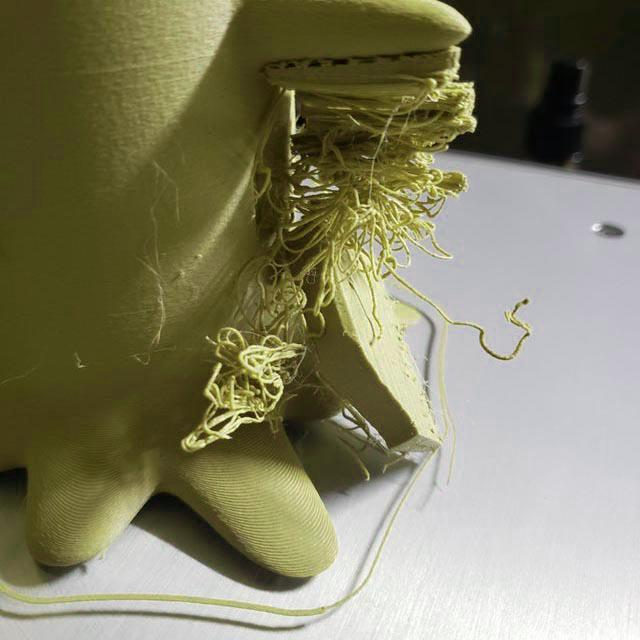Spaghetti: (182, 76, 480, 488), (479, 295, 536, 365)
